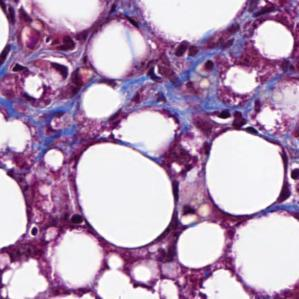inflammation: (206, 105, 252, 130), (285, 160, 299, 191), (28, 221, 43, 242)
